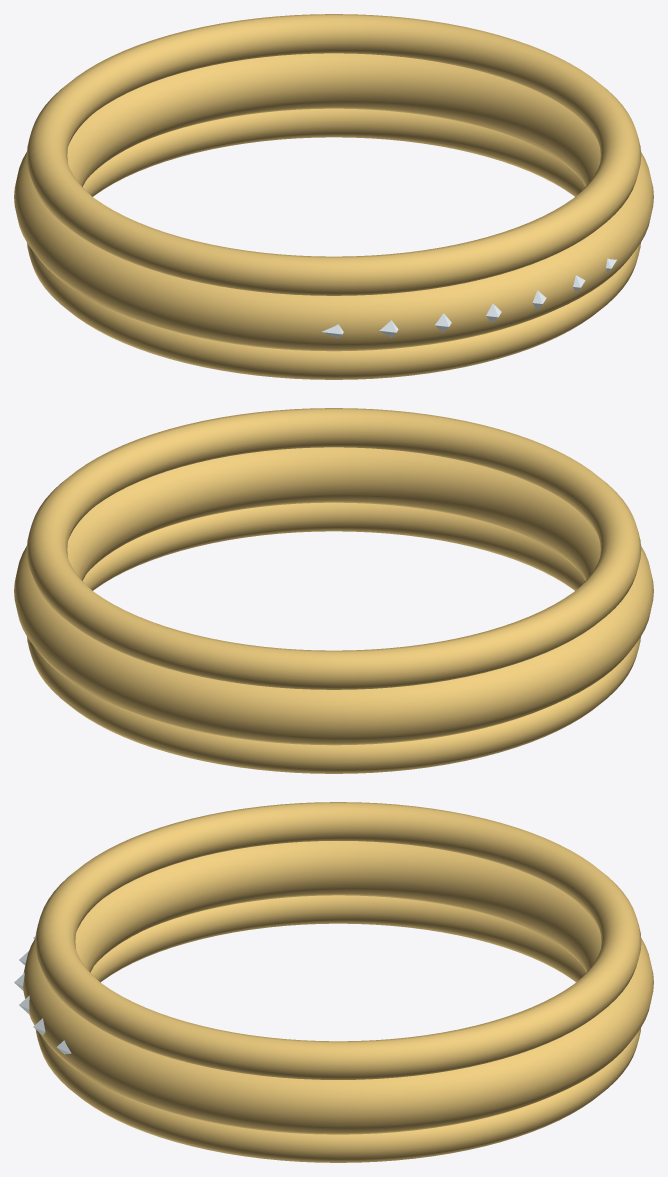
Rendered from band.glb.
3 renders of one model, top to bottom at view 1: azimuth 30°, elevation 25°; view 2: azimuth 150°, elevation 25°; view 3: azimuth 270°, elevation 25°, orthographic.
Parts seen in each view (by area): view 1: metal (×3); view 2: metal (×3); view 3: metal (×3).
Part boxes in pixels (left/top/right/bottom): metal (×3): left=14, top=14, right=653, bottom=379; metal (×3): left=14, top=408, right=653, bottom=773; metal (×3): left=23, top=802, right=653, bottom=1162.
Size of the model in its own units: 2.52 by 0.52 by 2.55.
